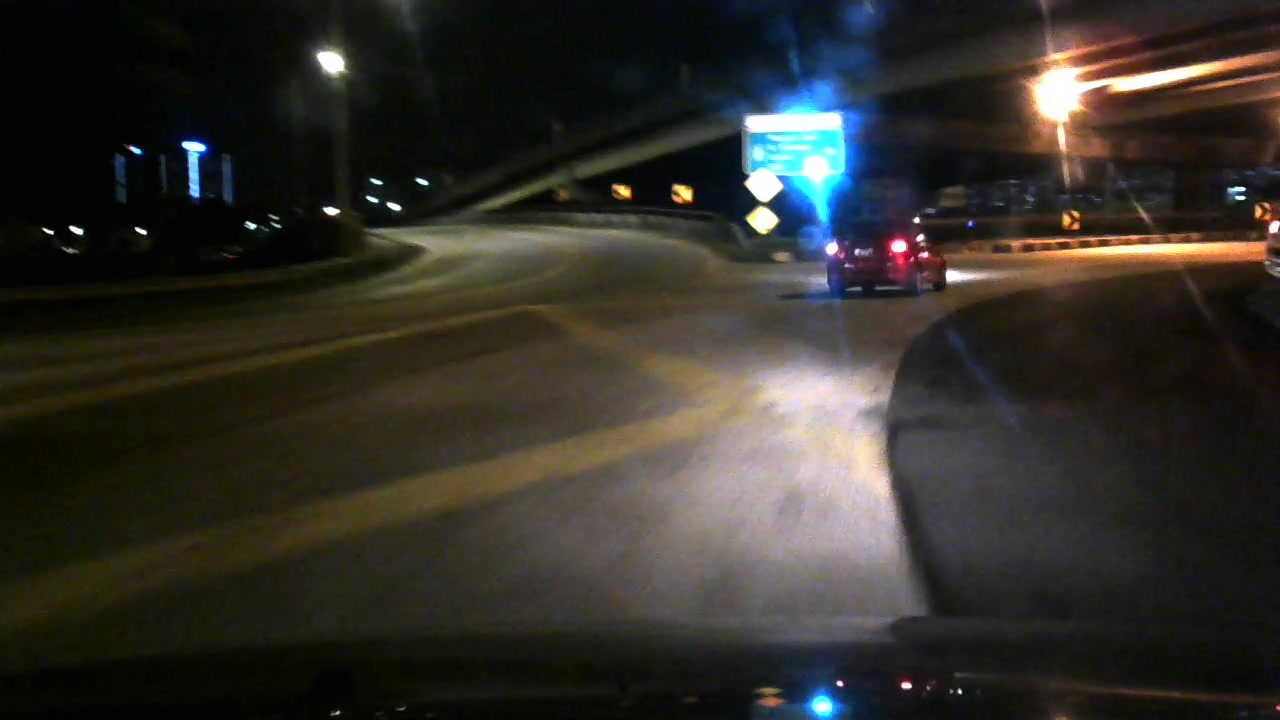Car: (816, 220, 956, 297)
